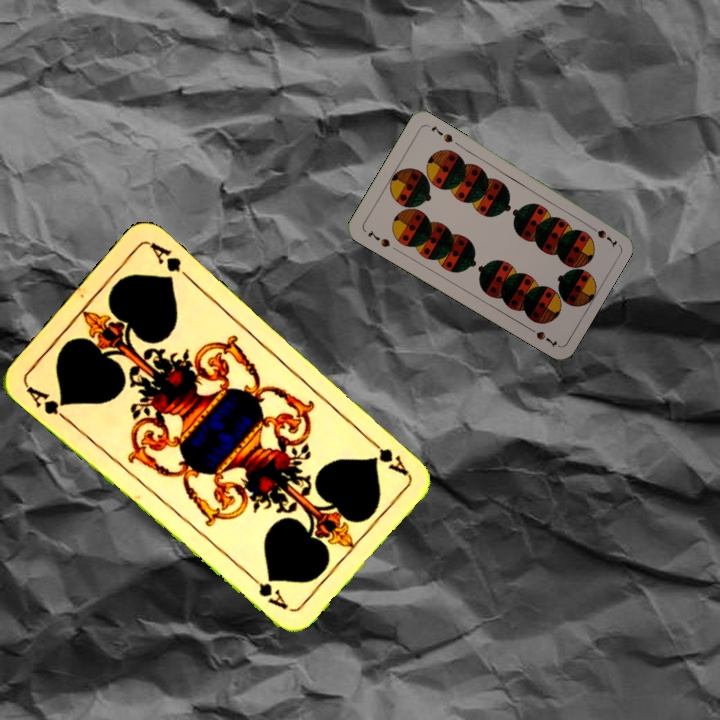GA: (362, 432, 411, 478), (21, 382, 73, 425)
S7: (583, 220, 620, 248), (364, 226, 393, 250)
